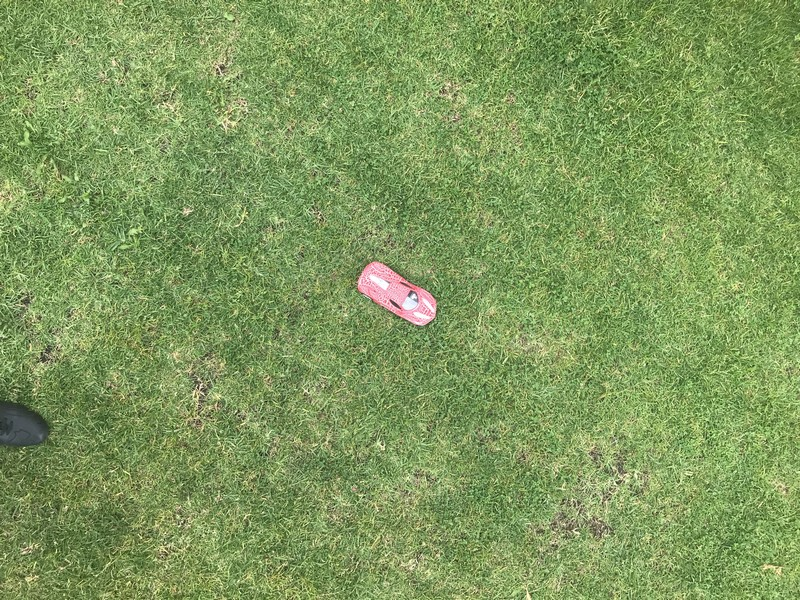RC: (355, 259, 438, 330)
